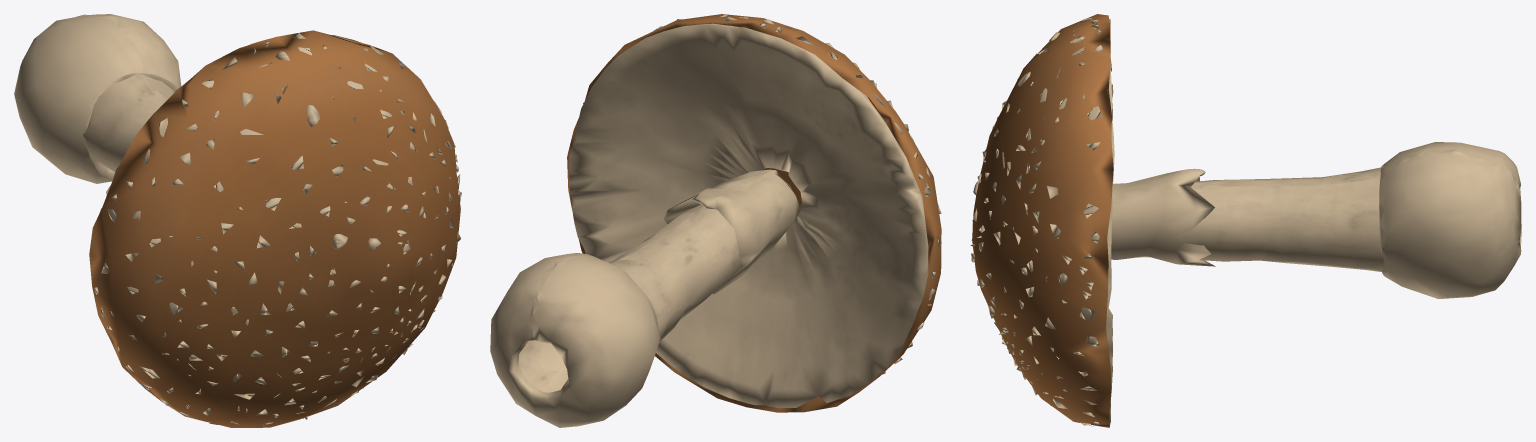
The model's file is native_mushroom.obj.
3 renders of one model, left to right at view 1: azimuth 30°, elevation 25°; view 2: azimuth 150°, elevation 25°; view 3: azimuth 270°, elevation 25°, orthographic.
Bounding box in the file's own units: 0.3004 × 0.3 × 0.4.
Materials: 1 (1 with a texture image).
